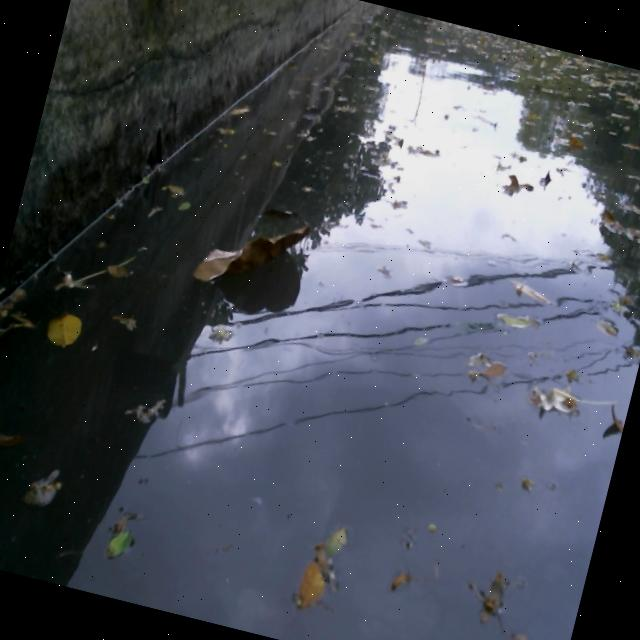Big-leaf: (187, 187, 320, 312)
Small-leaf: (520, 368, 587, 430), (39, 297, 92, 357), (288, 552, 334, 617), (474, 559, 515, 628), (18, 468, 64, 518), (490, 301, 544, 337), (504, 271, 556, 307), (101, 519, 138, 569), (387, 560, 425, 602), (596, 396, 629, 441), (437, 266, 477, 301), (590, 208, 636, 238), (105, 305, 144, 338), (503, 164, 538, 200), (324, 519, 354, 560), (476, 353, 511, 387), (101, 254, 139, 283), (560, 126, 593, 155), (406, 324, 436, 355), (158, 173, 191, 201), (223, 95, 254, 123), (4, 278, 33, 307), (617, 338, 640, 366), (592, 316, 621, 338), (0, 424, 25, 449), (216, 118, 242, 140), (174, 194, 197, 217), (508, 622, 537, 640), (537, 165, 556, 189), (0, 304, 7, 332)
